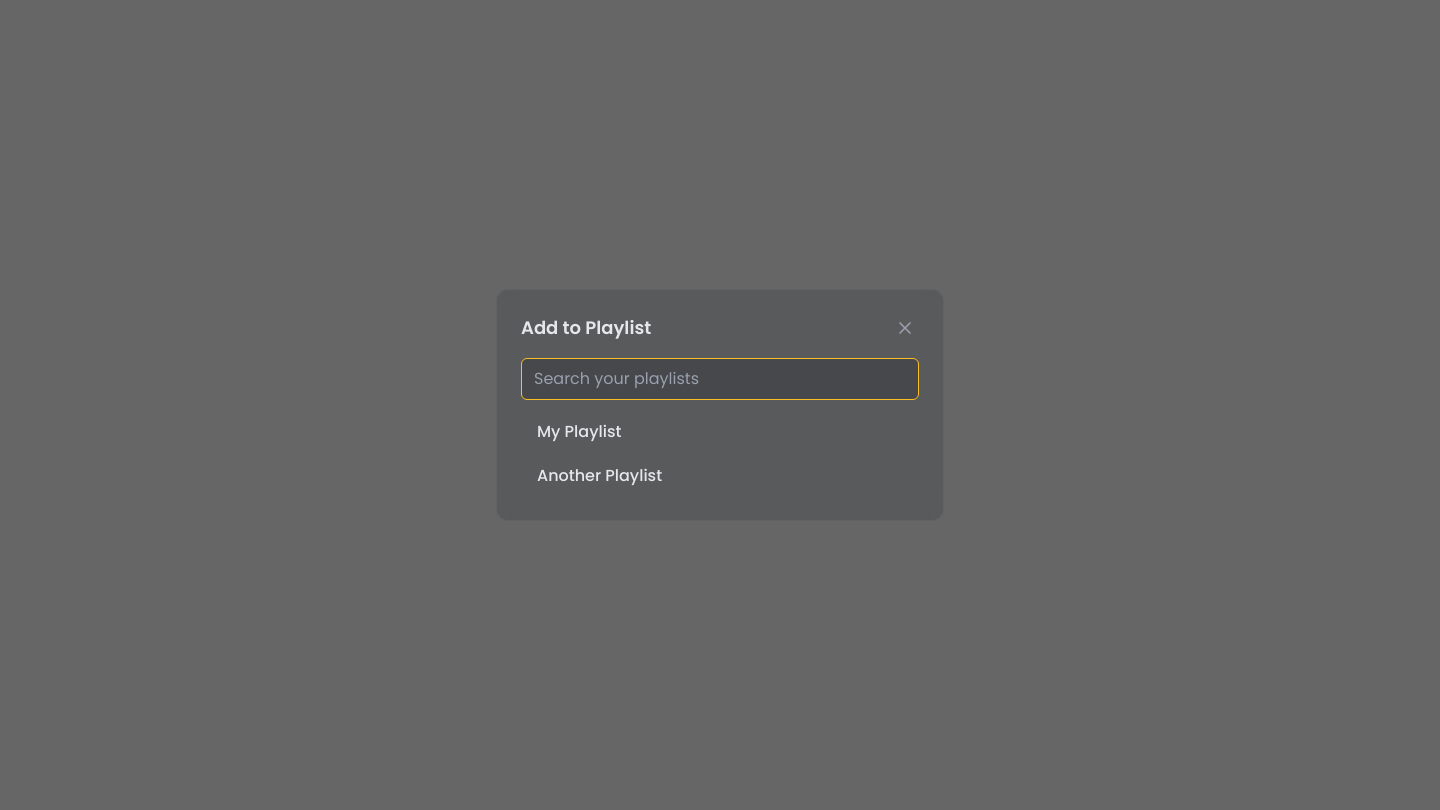
AddToPlaylistModal › playlist selection › shows success message after adding to playlist
Click the button "My Playlist" at (579, 432), box x1=521 y1=412 x2=919 y2=452
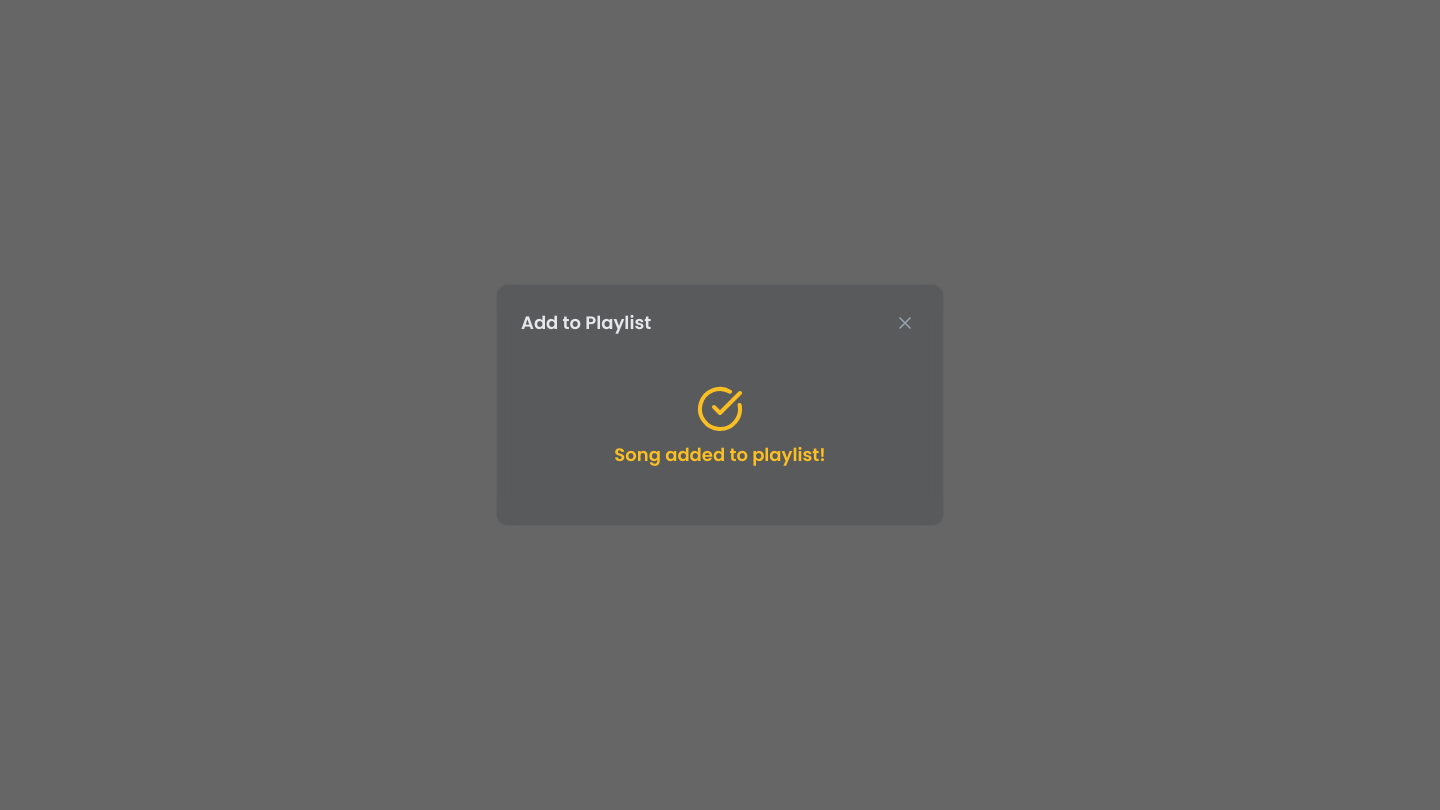
Now the text "Song added to playlist!" is shown, box x1=614 y1=441 x2=826 y2=469
